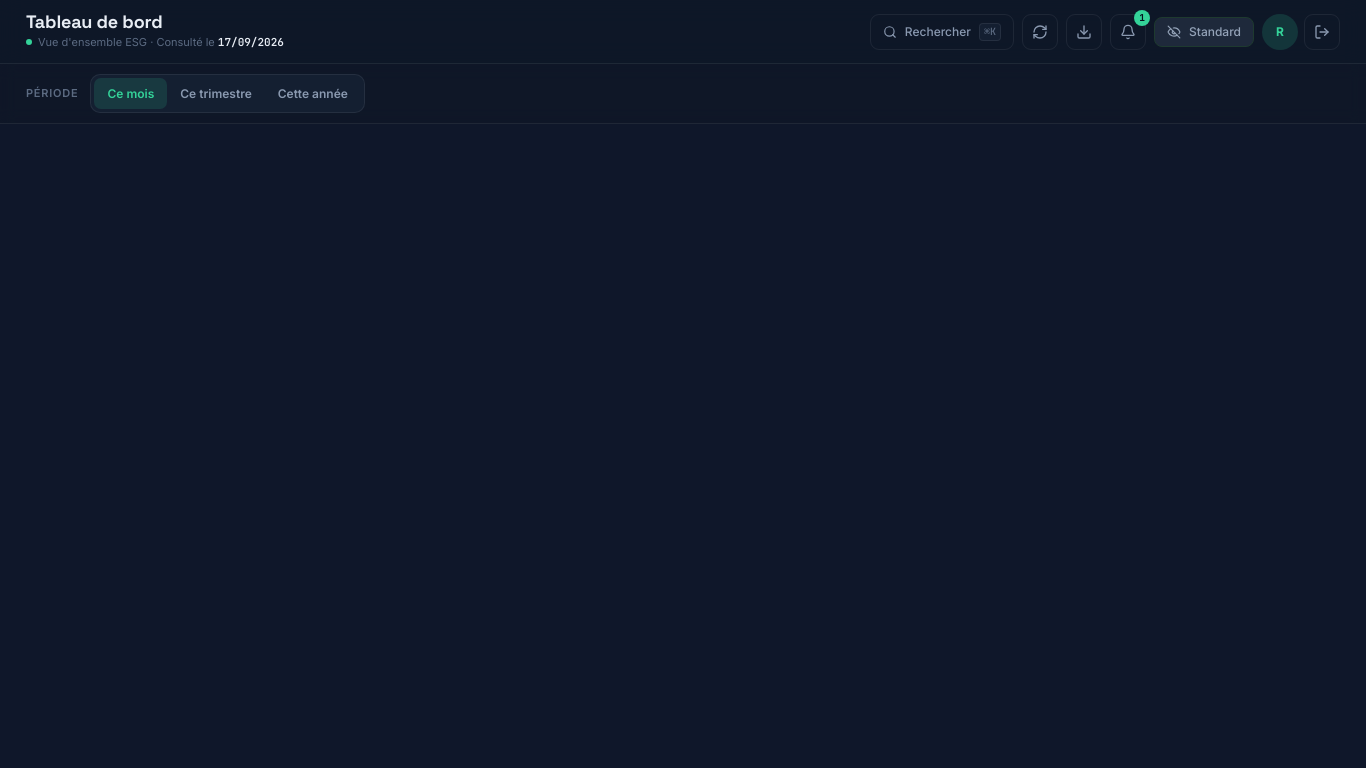
Scenario: Header › notifications réelles de l'organisation, plus de notifications de démonstration
What coordinates should you click on to do the following:
click the button "1"
I would click on:
 (1128, 32)
Its box is [1110,14,1146,50].
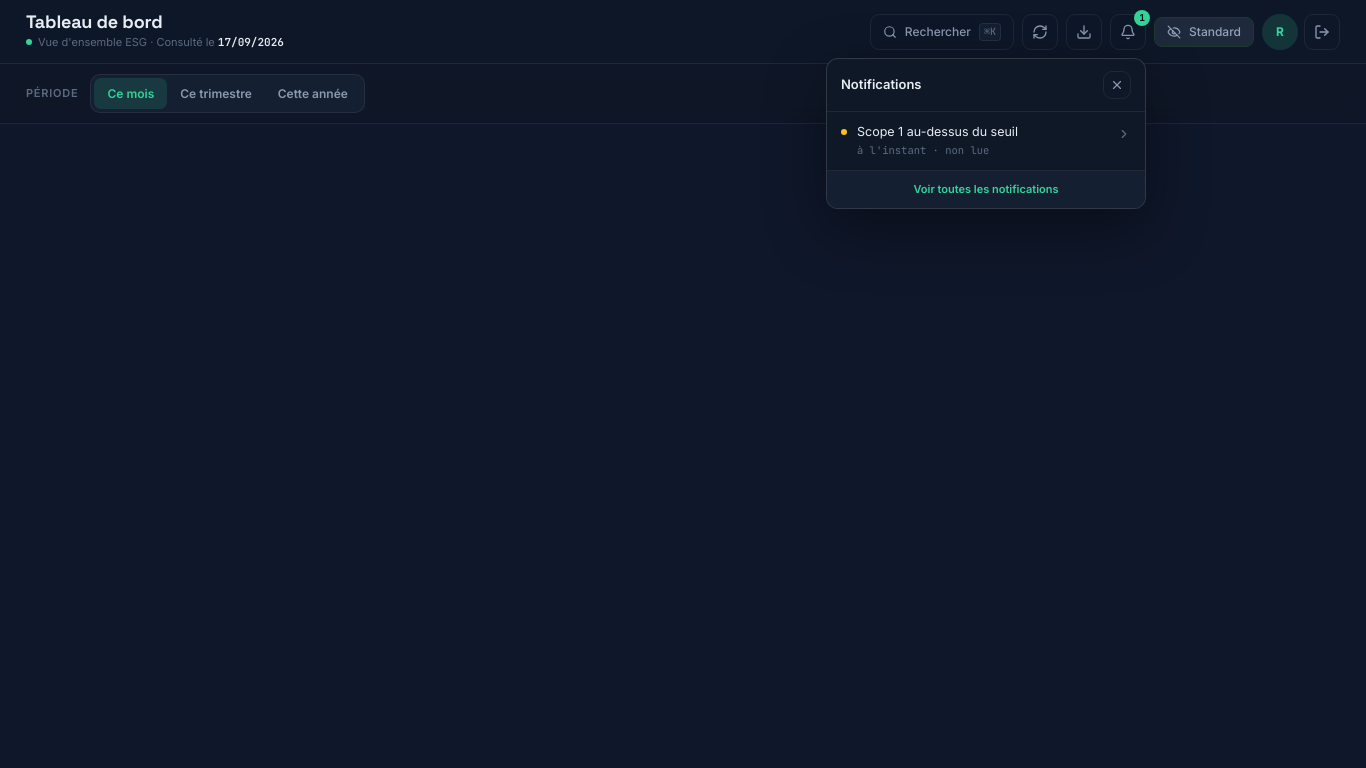
Check: the text "Scope 1 au-dessus du seuil" is shown, box [857,124,1018,138]
